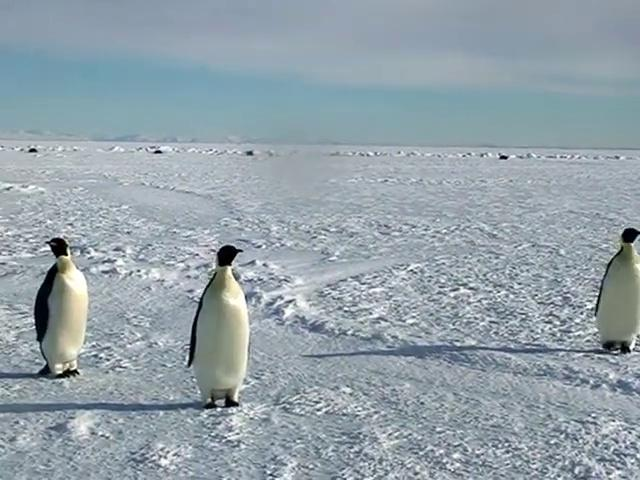animal: (188, 245, 249, 407)
